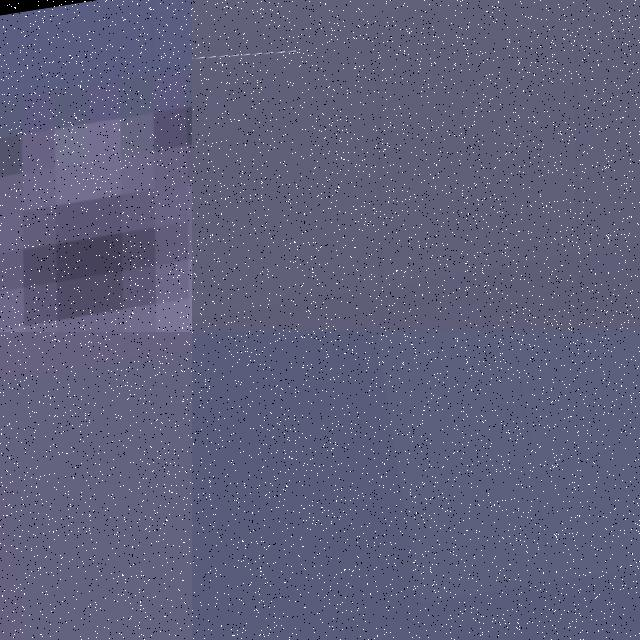drone: (192, 0, 640, 332), (0, 0, 192, 332)
